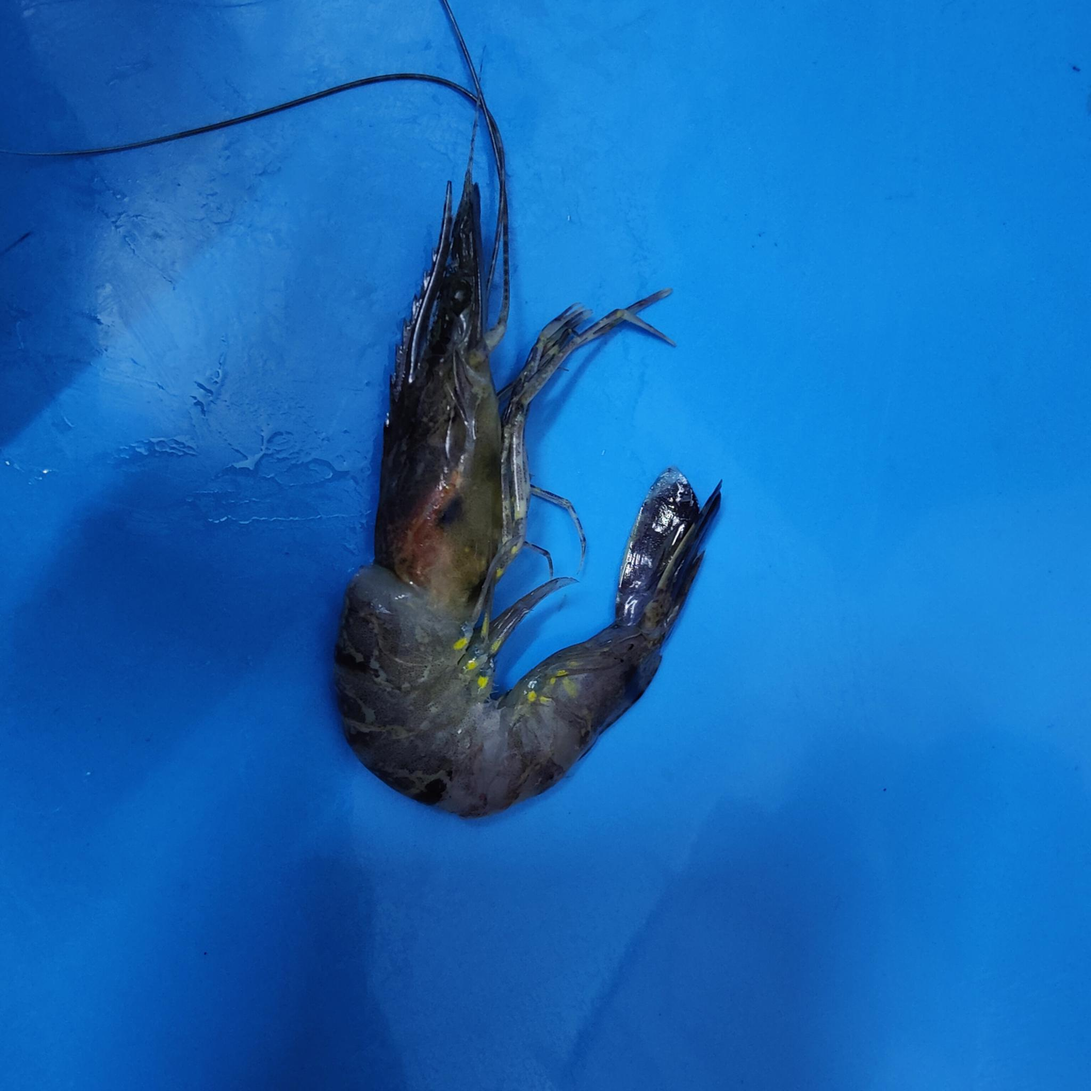whitespot: (386, 616, 449, 676), (368, 630, 420, 701)
